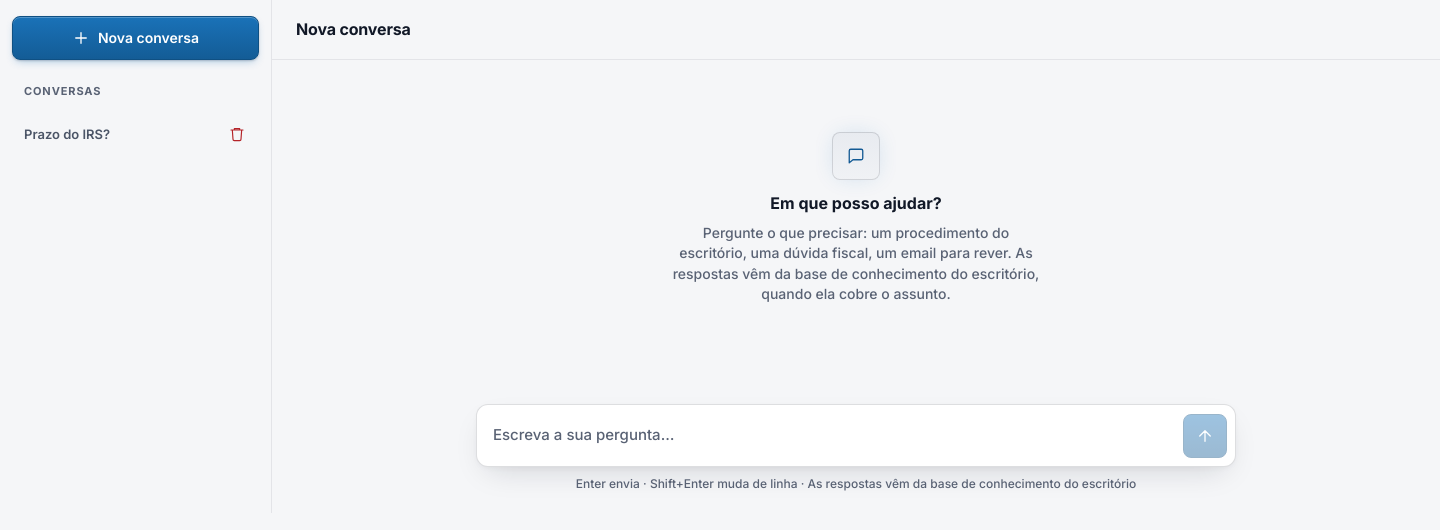
Test case: ChatView › abre uma conversa antiga com as suas mensagens
The width and height of the screenshot is (1440, 530).
Click the button "Prazo do IRS?" at (120, 134), box [24, 112, 215, 156]
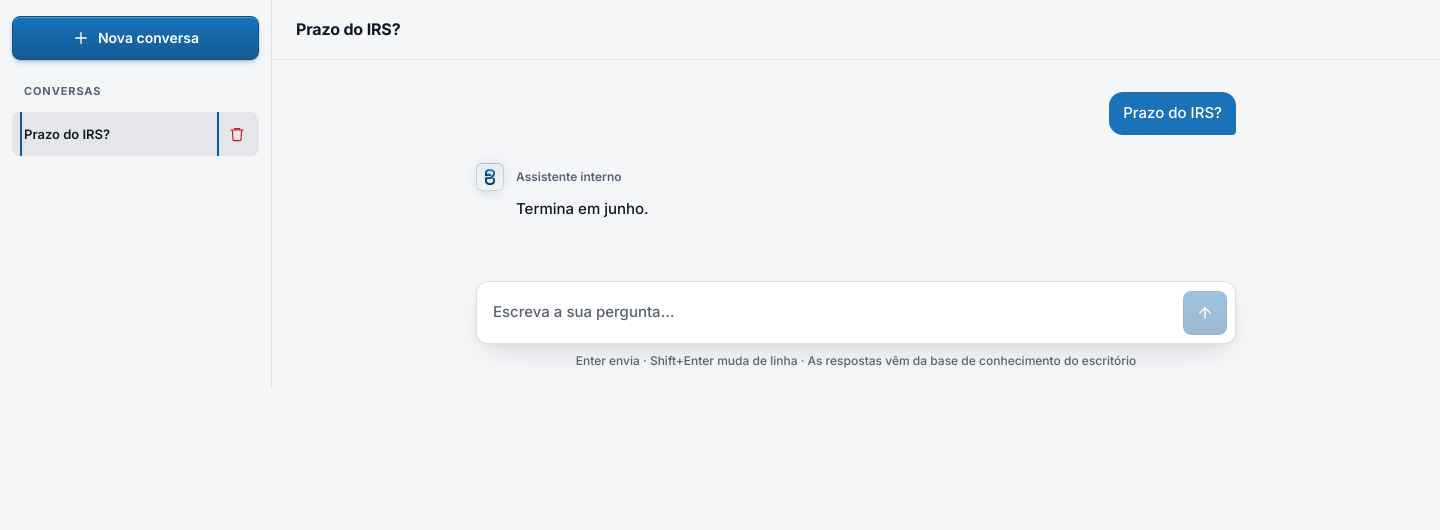
Check: the text "Termina em junho." is shown, box [516, 196, 649, 220]
